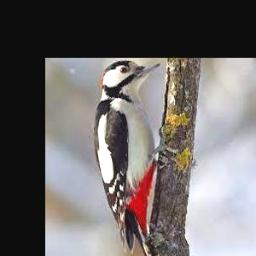Woodpecker: (93, 60, 173, 256)
